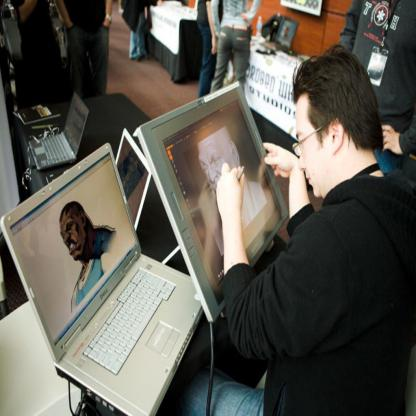board: (1, 141, 202, 415), (28, 94, 89, 172), (115, 128, 151, 231)
